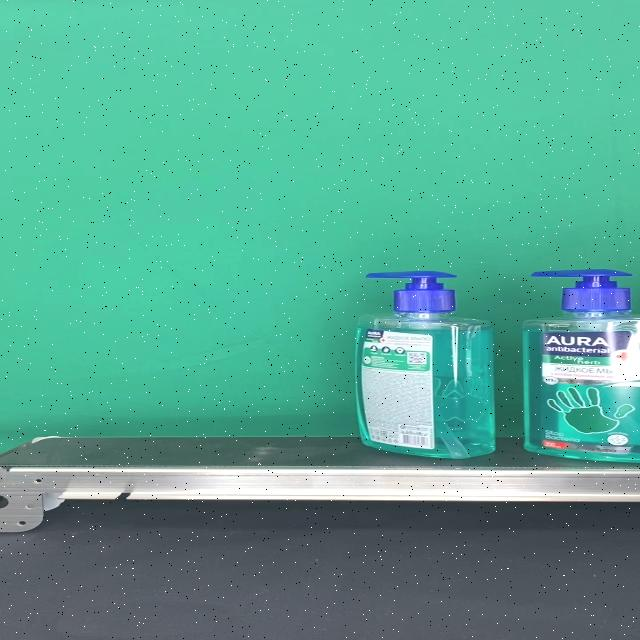Bottle: (353, 271, 497, 458), (524, 269, 640, 463)
Cap: (532, 269, 632, 312), (366, 272, 457, 314)
